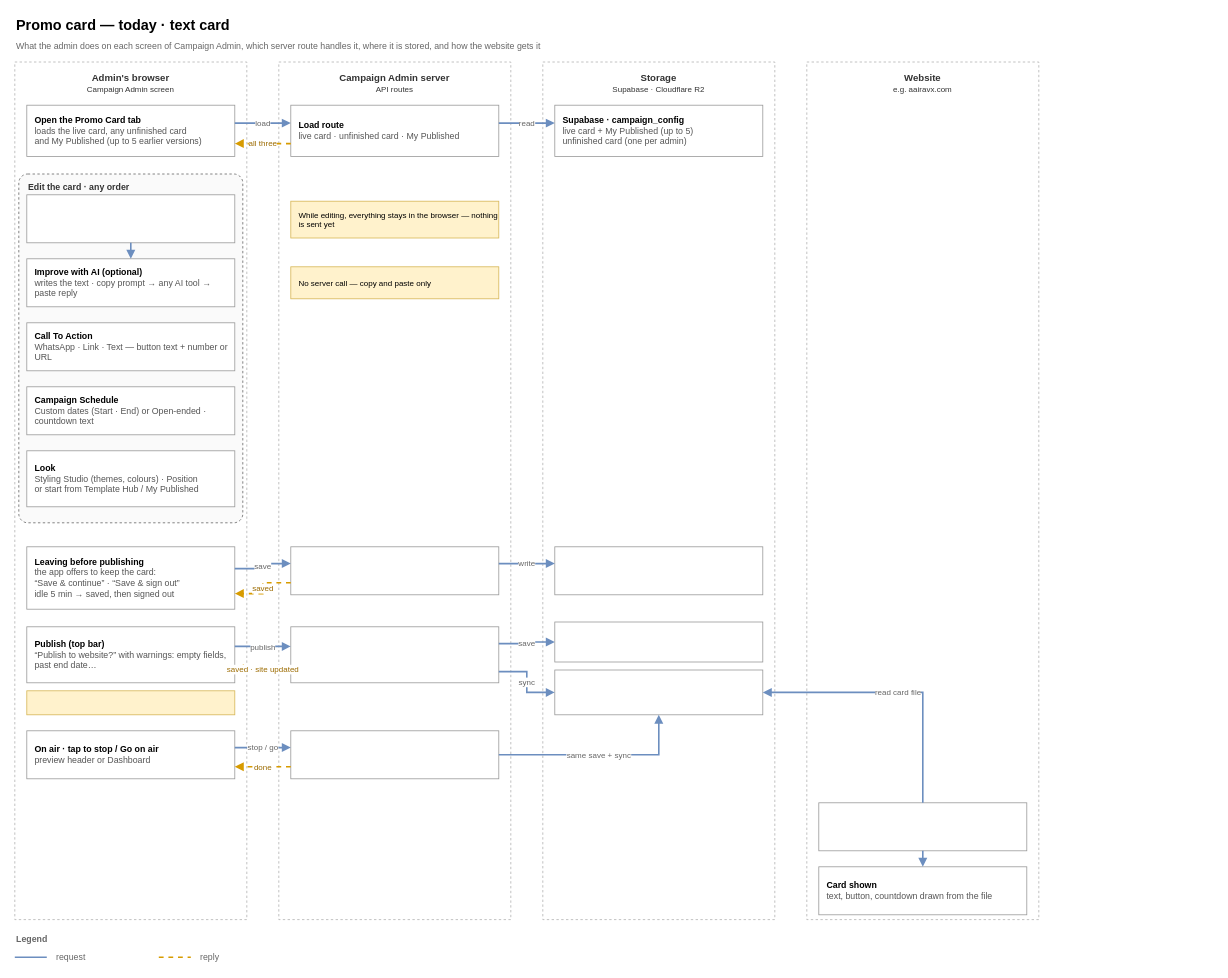
Image size: 1228x978. Some labels were removed from this diagram. The shapes that lost their labels are listed below. From the top down, each one's centre as x and y in pixels, then its label:
(130,218): Content Title · Subtitle · Description (rich text)
(394,570): Save route stores the unfinished card
(658,570): Supabase · unfinished card one per admin
(394,654): Publish route saves the live card, then updates the website file
(658,641): Supabase · live card the published card + My Published (up to 5)
(130,702): After publishing, the unfinished card is cleared
(658,692): R2 · campaign-config.json whole card incl. all text
(394,754): Publish route switches the live card on or off
(922,826): Visitor opens the site site loads campaign-config.json
